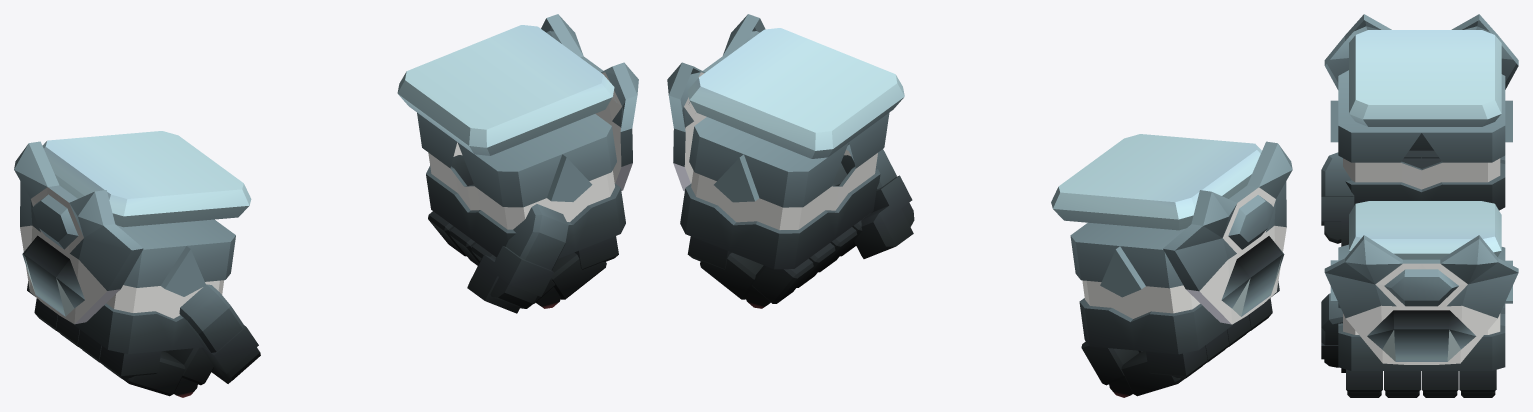
File: gloves10.fbx
3 renders of one model, left to right at view 1: azimuth 30°, elevation 25°; view 2: azimuth 150°, elevation 25°; view 3: azimuth 270°, elevation 25°, orthographic. The views are drawn at different scales.
Visible parts, largest first — view 1: 10.001, 10; view 2: 10.001, 10; view 3: 10.001, 10.
Boxes of the visible parts, x1,y1,x2,y2 form: 10.001: (397, 14, 638, 313); 10: (14, 131, 260, 397); 10.001: (667, 14, 914, 308); 10: (1051, 134, 1292, 397); 10.001: (1321, 201, 1518, 397); 10: (1321, 14, 1518, 246).
Bounding box in the file's own units: 1.5 × 0.5517 × 0.5151.
